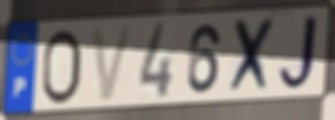4: (137, 20, 176, 102)
6: (186, 22, 222, 96)
J: (276, 11, 321, 94)
O: (39, 27, 83, 107)
V: (89, 24, 135, 104)
X: (226, 14, 278, 98)
